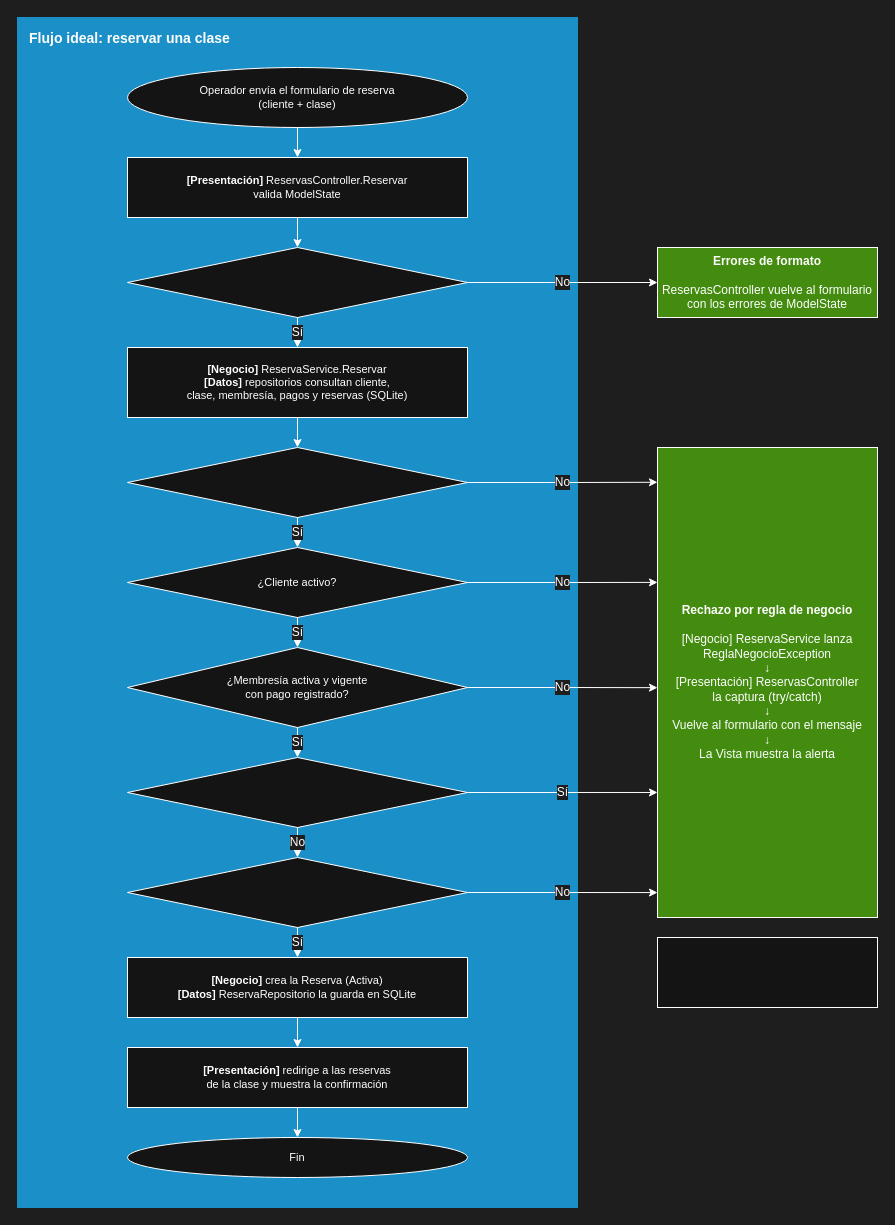
Some shapes in this 895 by 1225 pixel diagram are drawn without their labels. Here are the shapes that lost their labels. From the top down, the box of each, then its label:
(126, 246, 468, 318): ¿Formato válido?
(126, 446, 468, 518): ¿Existen cliente y clase?
(126, 756, 468, 828): ¿Ya tiene reserva activa en esa clase?
(126, 856, 468, 928): ¿Hay cupo disponible? (reservas activas < CupoMaximo)
(656, 936, 878, 1008): Filtro global ReglaNegocioExceptionFilter: respaldo para excepciones inesperadas
